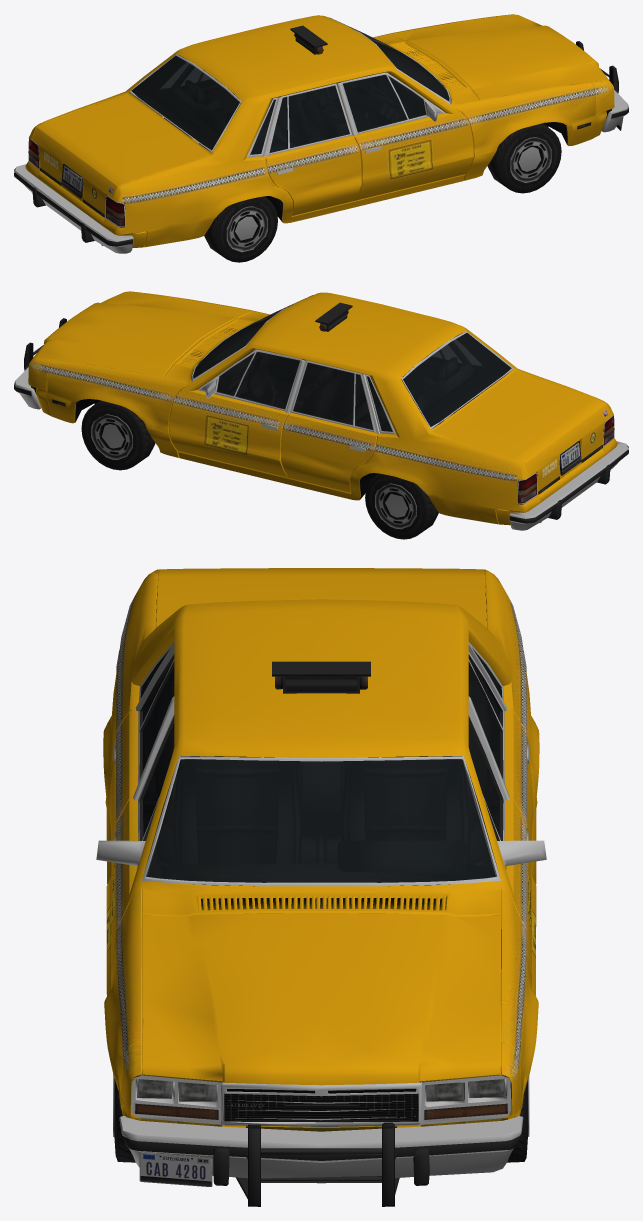
The model's file is car_taxi.glb.
3 views of the same model, one above another, from view 1: azimuth 30°, elevation 25°; view 2: azimuth 150°, elevation 25°; view 3: azimuth 270°, elevation 25° (orthographic). The views are drawn at different scales.
Visible parts, largest first — view 1: Fairheaven_LT80_Front_Plate002_Fairheaven_LT80_Bodymat_0, Fairheaven_LT80_Glass_Body002_UCB_Lights_and_Glass_Transpere, Fairheaven_LT80_Interior002_UCB_Interior_Trim_0, Fairheaven_LT80_TaxiBeacon_UCB_BOTTOM_GT_0, Fairheaven_LT80_WheelStock_FL_RB1c_Tire_1k_0, Fairheaven_LT80_Brakelights002_UCB_Lights_and_Glass_0, Fairheaven_LT80_Taxi_Numberplate_Front_Numberplates_Misk_U_0; view 2: Fairheaven_LT80_Front_Plate002_Fairheaven_LT80_Bodymat_0, Fairheaven_LT80_Glass_Body002_UCB_Lights_and_Glass_Transpere, Fairheaven_LT80_Interior002_UCB_Interior_Trim_0, Fairheaven_LT80_TaxiBeacon_UCB_BOTTOM_GT_0, Fairheaven_LT80_WheelStock_FL_RB1c_Tire_1k_0, Fairheaven_LT80_Brakelights002_UCB_Lights_and_Glass_0; view 3: Fairheaven_LT80_Front_Plate002_Fairheaven_LT80_Bodymat_0, Fairheaven_LT80_Glass_Body002_UCB_Lights_and_Glass_Transpere, Fairheaven_LT80_TaxiBeacon_UCB_BOTTOM_GT_0, Fairheaven_LT80_Interior002_UCB_Interior_Trim_0, Fairheaven_LT80_Brakelights002_UCB_Lights_and_Glass_0, Fairheaven_LT80_Taxi_Numberplate_Front_Numberplates_Misk_U_0, Fairheaven_LT80_WheelStock_FL_RB1c_Tire_1k_0.
Part boxes in pixels (x1,y1,x2,y2): Fairheaven_LT80_Front_Plate002_Fairheaven_LT80_Bodymat_0: (25,14,614,247); Fairheaven_LT80_Glass_Body002_UCB_Lights_and_Glass_Transpere: (28,17,449,225); Fairheaven_LT80_Interior002_UCB_Interior_Trim_0: (39,40,451,208); Fairheaven_LT80_TaxiBeacon_UCB_BOTTOM_GT_0: (14,25,628,253); Fairheaven_LT80_WheelStock_FL_RB1c_Tire_1k_0: (204,123,561,262); Fairheaven_LT80_Brakelights002_UCB_Lights_and_Glass_0: (28,140,124,226); Fairheaven_LT80_Taxi_Numberplate_Front_Numberplates_Misk_U_0: (63,117,623,194); Fairheaven_LT80_Front_Plate002_Fairheaven_LT80_Bodymat_0: (28,291,617,525); Fairheaven_LT80_Glass_Body002_UCB_Lights_and_Glass_Transpere: (193,295,614,502); Fairheaven_LT80_Interior002_UCB_Interior_Trim_0: (191,317,603,485); Fairheaven_LT80_TaxiBeacon_UCB_BOTTOM_GT_0: (14,302,628,530); Fairheaven_LT80_WheelStock_FL_RB1c_Tire_1k_0: (81,400,438,539); Fairheaven_LT80_Brakelights002_UCB_Lights_and_Glass_0: (518,417,614,503); Fairheaven_LT80_Front_Plate002_Fairheaven_LT80_Bodymat_0: (103,568,539,1131); Fairheaven_LT80_Glass_Body002_UCB_Lights_and_Glass_Transpere: (135,648,507,1119); Fairheaven_LT80_TaxiBeacon_UCB_BOTTOM_GT_0: (96,611,546,1206); Fairheaven_LT80_Interior002_UCB_Interior_Trim_0: (141,651,501,886); Fairheaven_LT80_Brakelights002_UCB_Lights_and_Glass_0: (137,593,505,1101); Fairheaven_LT80_Taxi_Numberplate_Front_Numberplates_Misk_U_0: (139,1152,212,1186); Fairheaven_LT80_WheelStock_FL_RB1c_Tire_1k_0: (113,1073,529,1162).
Bounding box in the file's own units: 5.07 × 1.44 × 1.82.
Materials: 7 (7 with a texture image).
